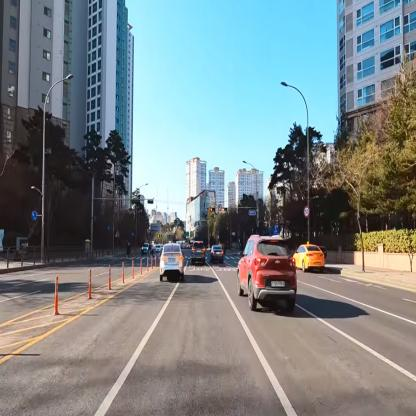red: (208, 206, 216, 213), (221, 206, 228, 214)
